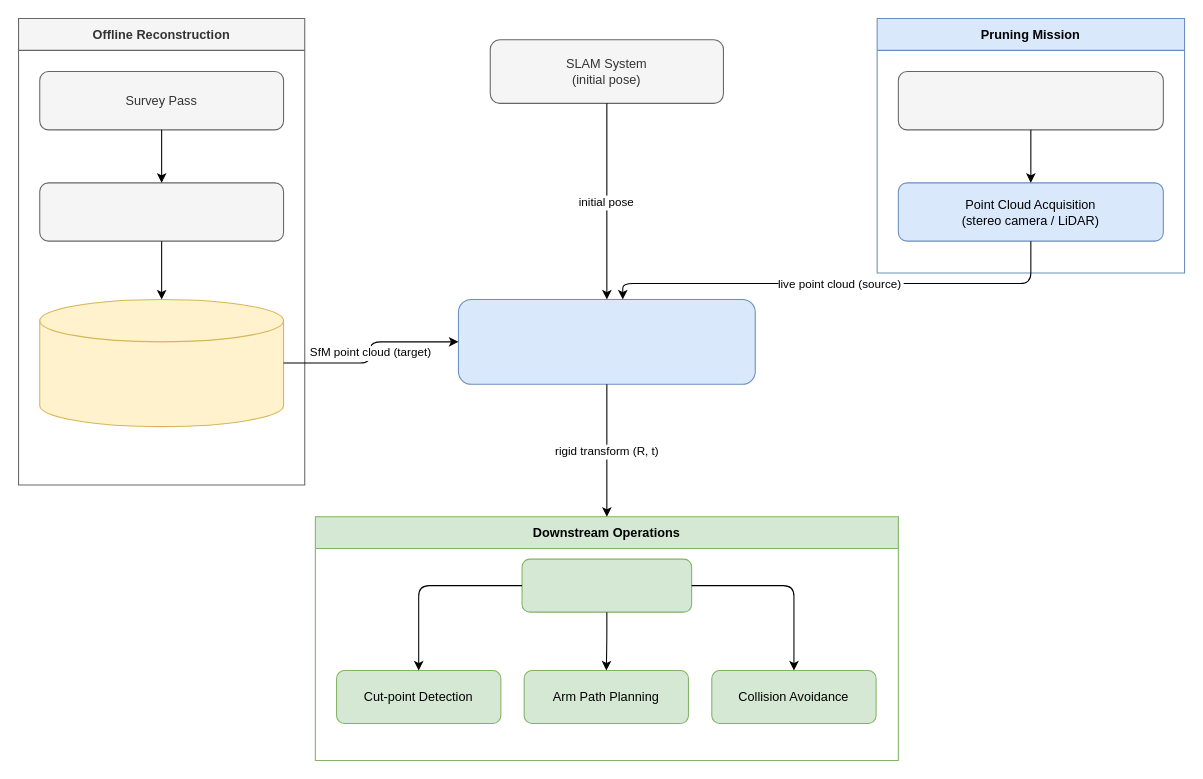
Image size: 1203x779. Some labels were removed from this diagram. The centre of each missing label's shape, as x and y in pixels:
3DGS Model + SfM Point Cloud (georeferenced in ENU frame): the point at 161,362
Physical Vine: the point at 1030,100
Precise Alignment Stage: the point at 606,341
SfM Pipeline (bundle adjustment): the point at 161,211
Updated Robot Pose: the point at 606,585
